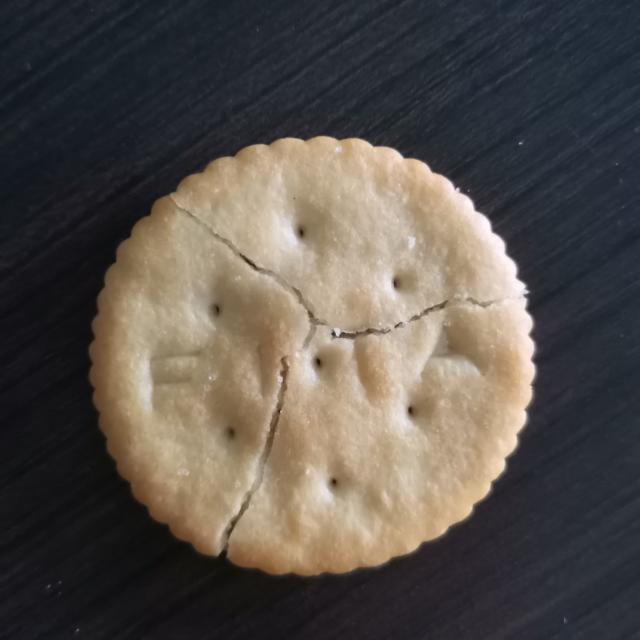Fracture: (157, 185, 532, 558)
